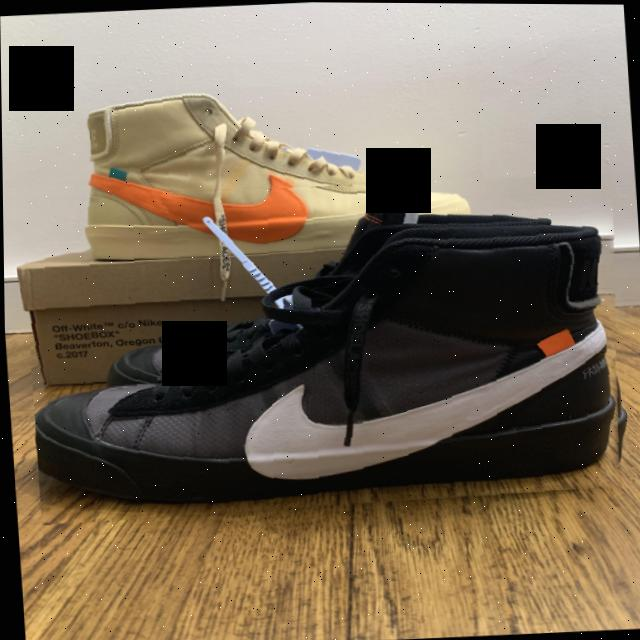shoe: (19, 169, 634, 529), (75, 74, 489, 279)
